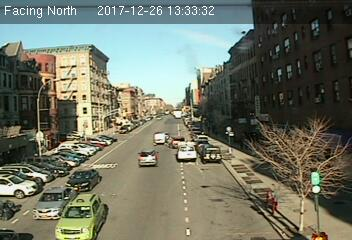car: (53, 192, 106, 239), (33, 188, 76, 221), (65, 167, 100, 191), (201, 145, 222, 163), (137, 150, 159, 166)
truck: (176, 143, 197, 163), (153, 131, 166, 145)
